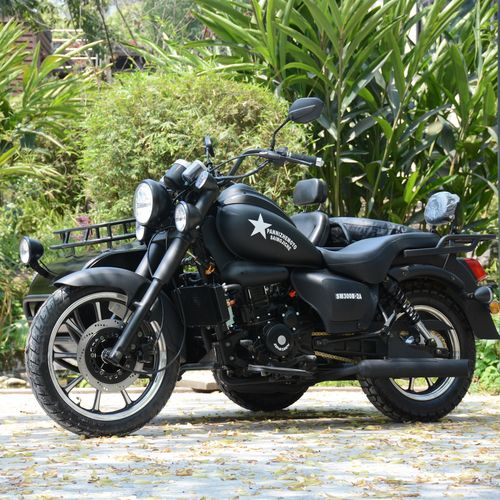摩托车: (12, 147, 500, 440)
